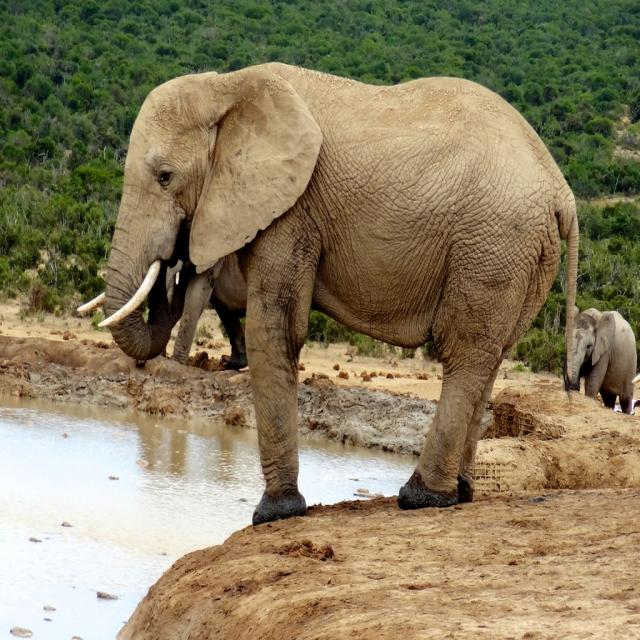elephant: (94, 54, 578, 520), (565, 310, 631, 412)
